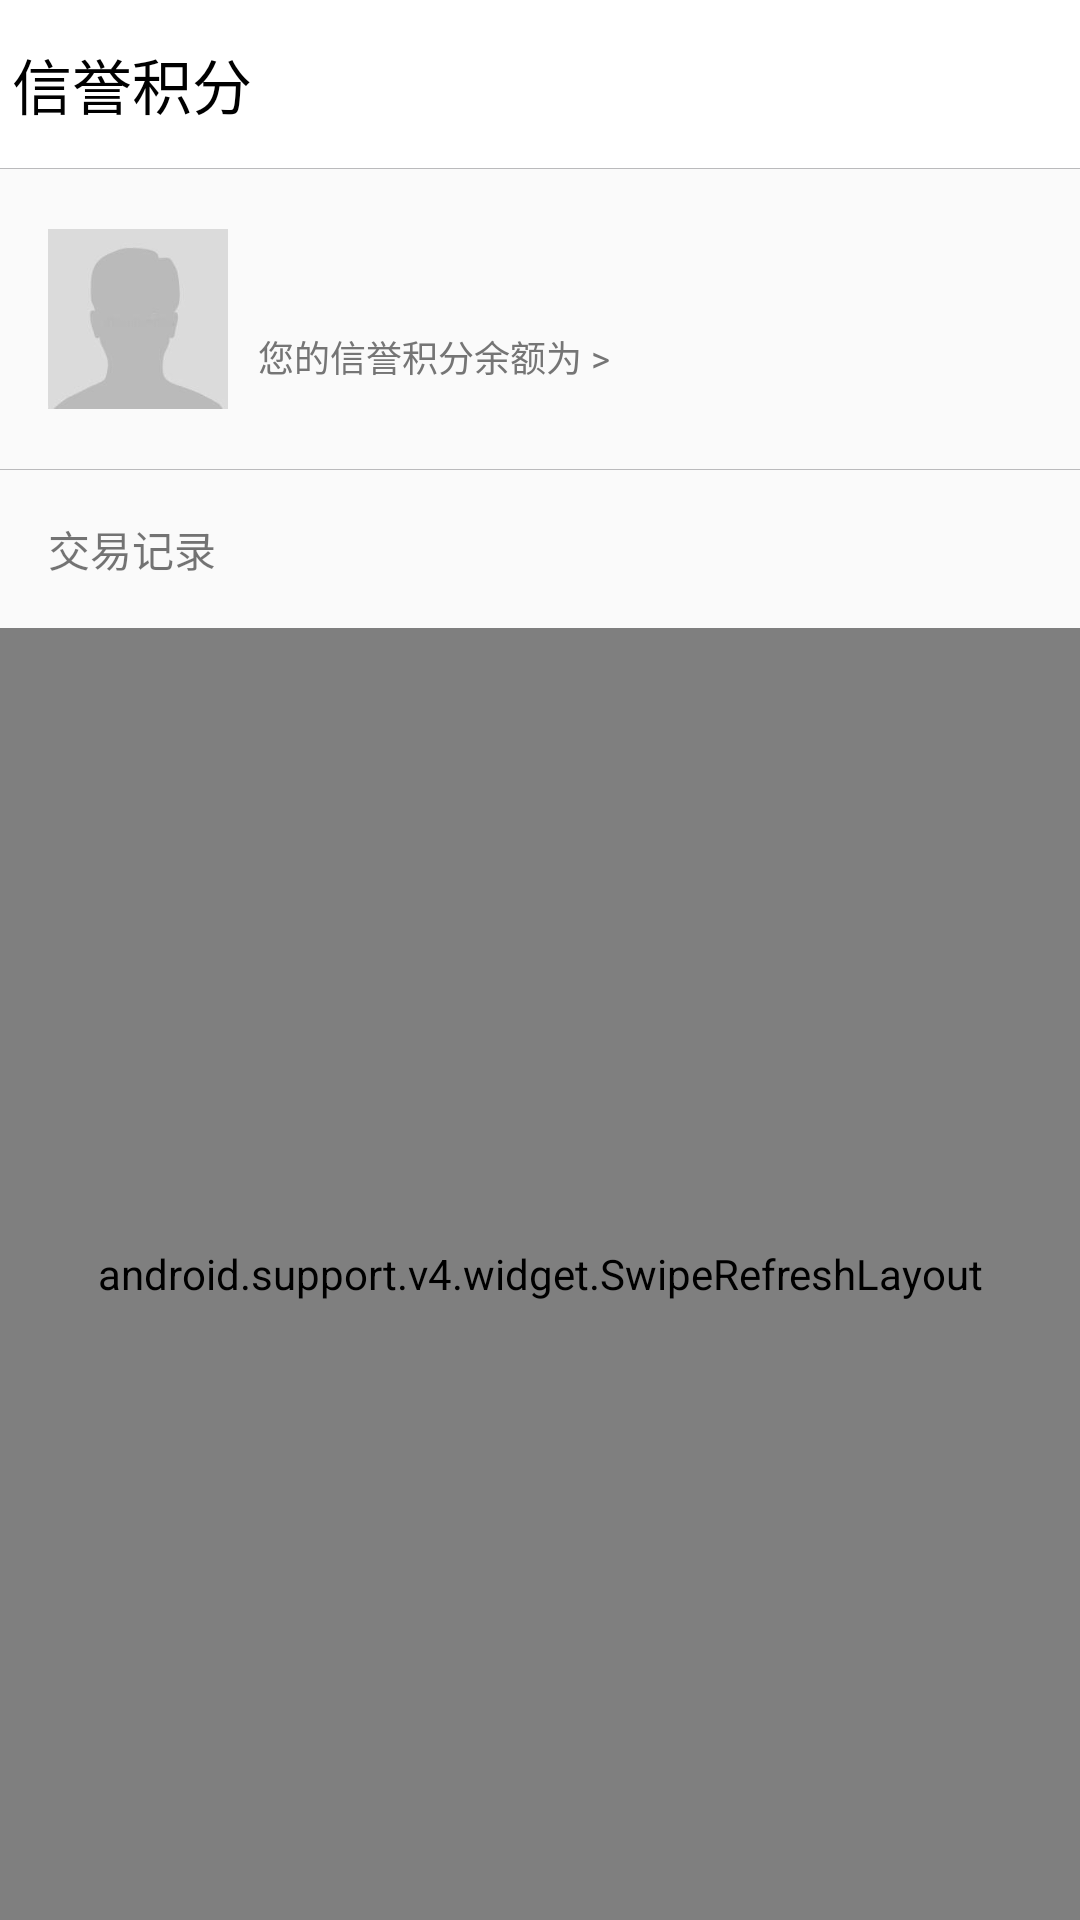

Screen size 1080 x 1920. Icon name, then its box in pixels as BBox(x1, y1, x2, y2):
head: BBox(48, 229, 228, 409)
